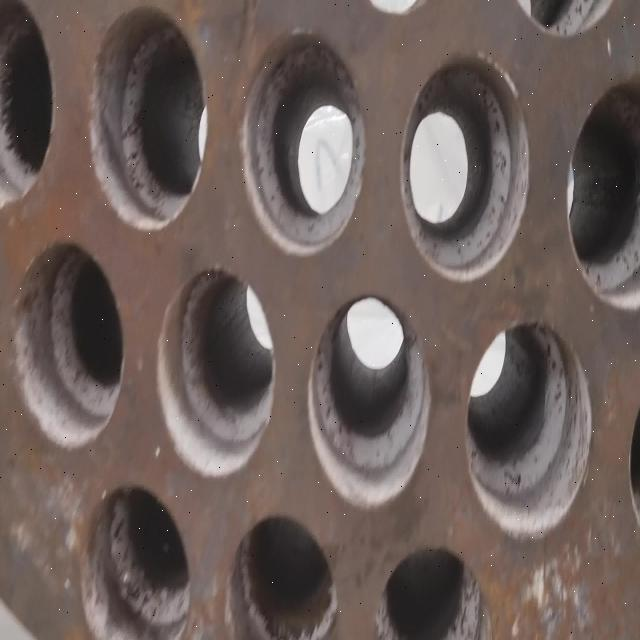Hole: (400, 50, 530, 282), (240, 24, 366, 256), (465, 316, 593, 538), (88, 4, 208, 231), (307, 294, 432, 508), (158, 266, 276, 478), (12, 238, 123, 448), (80, 483, 192, 639), (566, 78, 640, 312), (226, 512, 338, 640), (0, 9, 55, 212), (373, 544, 487, 640)
